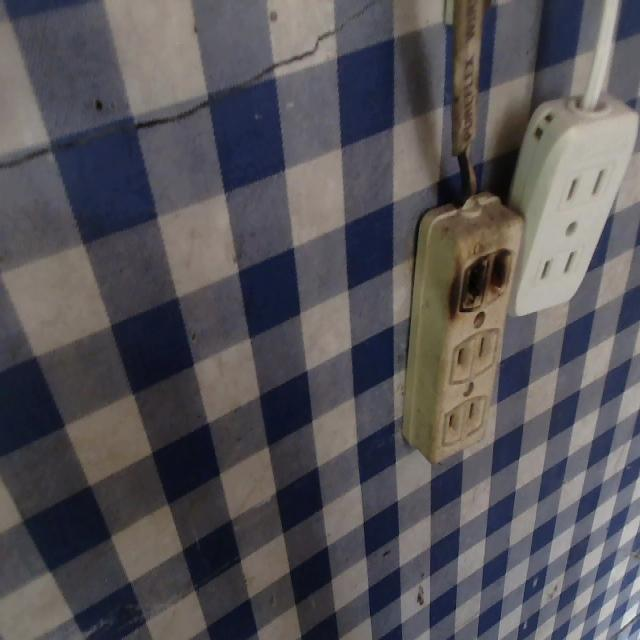-: (449, 239, 512, 309)
